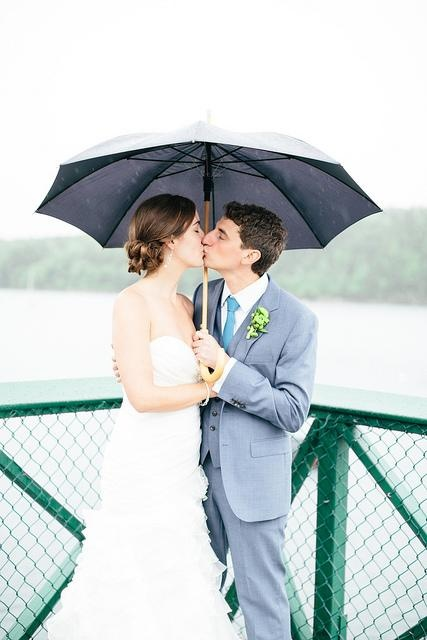person: (62, 182, 206, 640), (200, 198, 325, 640)
